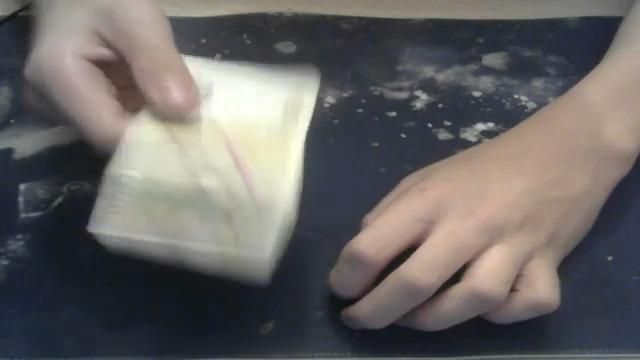10leva: (84, 54, 322, 289)
